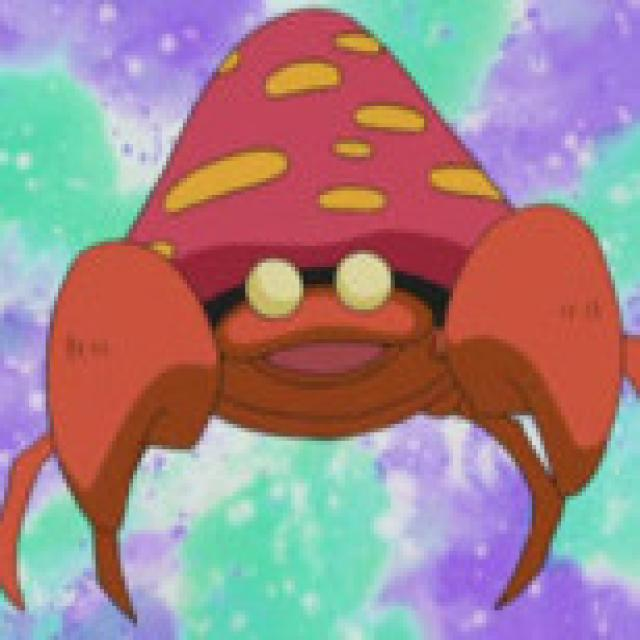Parasect: (64, 16, 624, 602)
